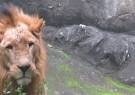lion: (1, 6, 46, 95)
